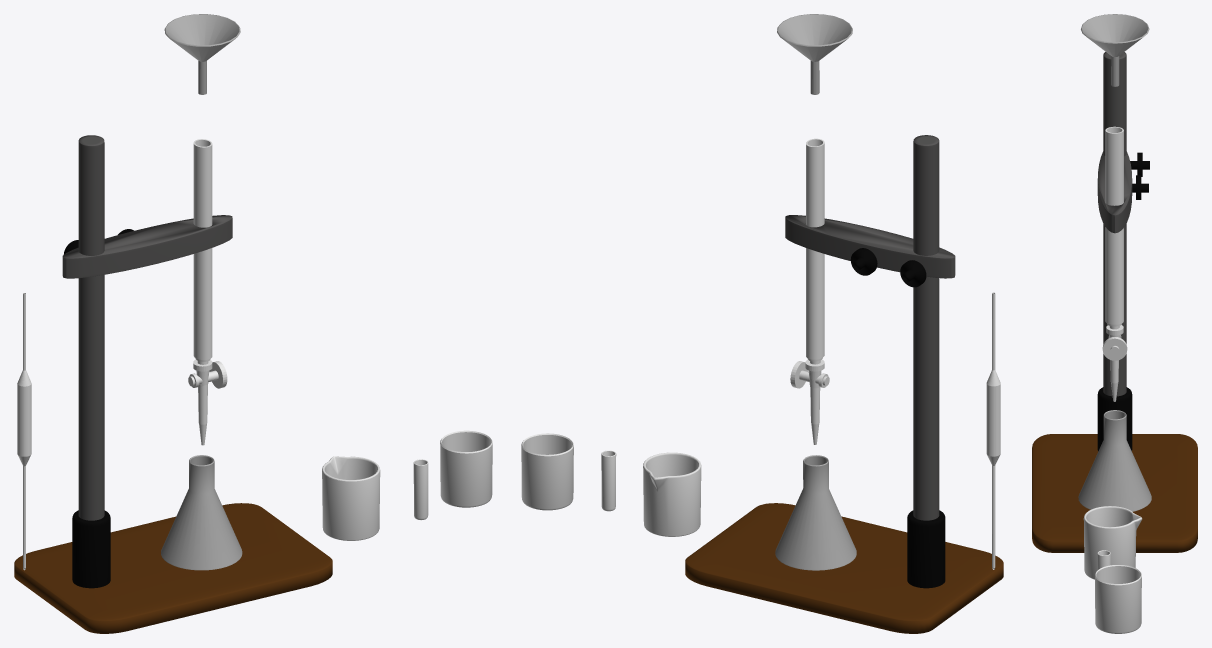
Rendered from Titration.fbx.
3 views of the same model, side by side, from view 1: azimuth 30°, elevation 25°; view 2: azimuth 150°, elevation 25°; view 3: azimuth 270°, elevation 25° (orthographic). The views are drawn at different scales.
Visible parts, largest first — view 1: StandBase, BuretteStand, ConicalFlask, Beaker2, burette, Beaker1, Funnel, ClampBase, Pipette, TestTube; view 2: StandBase, BuretteStand, ConicalFlask, Beaker2, burette, Beaker1, Funnel, ClampBase, Pipette, TestTube; view 3: StandBase, BuretteStand, ConicalFlask, burette, Beaker1, Beaker2, Funnel, ClampBase, valve, Nut2, Nut1.
Part boxes in pixels (x1=…): StandBase: x1=14, y1=503, x2=332, y2=633; BuretteStand: x1=62, y1=135, x2=232, y2=520; ConicalFlask: x1=161, y1=455, x2=242, y2=570; Beaker2: x1=322, y1=456, x2=380, y2=540; burette: x1=193, y1=139, x2=212, y2=445; Beaker1: x1=440, y1=430, x2=492, y2=507; Funnel: x1=164, y1=14, x2=240, y2=94; ClampBase: x1=72, y1=510, x2=110, y2=588; Pipette: x1=17, y1=293, x2=31, y2=570; TestTube: x1=413, y1=459, x2=428, y2=520; StandBase: x1=685, y1=503, x2=1003, y2=633; BuretteStand: x1=785, y1=135, x2=955, y2=520; ConicalFlask: x1=775, y1=455, x2=856, y2=570; Beaker2: x1=643, y1=452, x2=701, y2=536; burette: x1=806, y1=138, x2=824, y2=444; Beaker1: x1=521, y1=433, x2=573, y2=510; Funnel: x1=777, y1=14, x2=852, y2=94; ClampBase: x1=907, y1=510, x2=945, y2=588; Pipette: x1=986, y1=292, x2=1000, y2=569; TestTube: x1=601, y1=450, x2=616, y2=511; StandBase: x1=1032, y1=434, x2=1197, y2=552; BuretteStand: x1=1097, y1=52, x2=1132, y2=396; ConicalFlask: x1=1078, y1=410, x2=1151, y2=511; burette: x1=1105, y1=126, x2=1123, y2=401; Beaker1: x1=1095, y1=565, x2=1141, y2=633; Beaker2: x1=1083, y1=506, x2=1142, y2=579; Funnel: x1=1081, y1=14, x2=1149, y2=86; ClampBase: x1=1097, y1=387, x2=1132, y2=451; valve: x1=1102, y1=335, x2=1127, y2=360; Nut2: x1=1130, y1=152, x2=1149, y2=176; Nut1: x1=1132, y1=175, x2=1148, y2=199.
Bounding box in the file's own units: 9.38 × 10.23 × 3.16.
